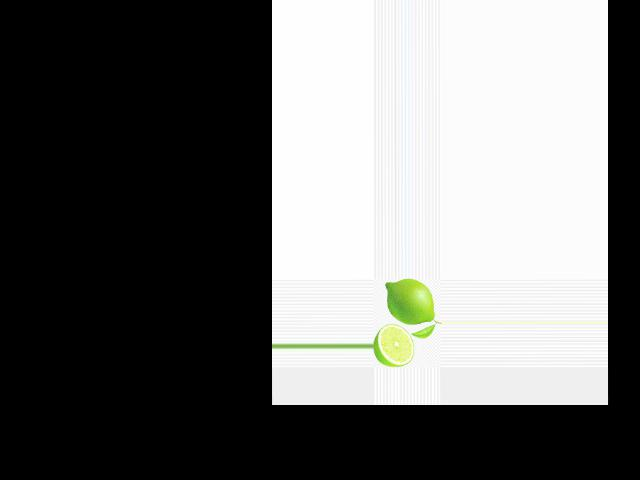lemon: (383, 279, 435, 331)
